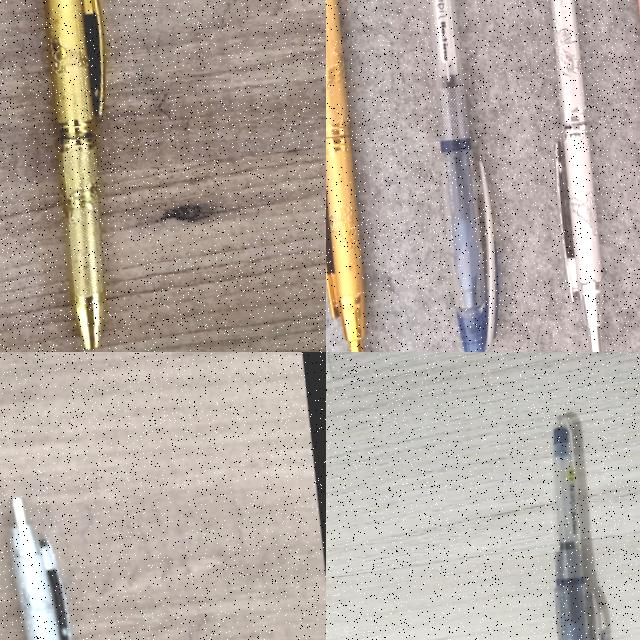pen: (408, 0, 505, 352), (552, 417, 601, 639)
signature pen: (43, 0, 104, 348), (326, 0, 378, 352), (550, 0, 602, 352), (7, 495, 71, 640)
